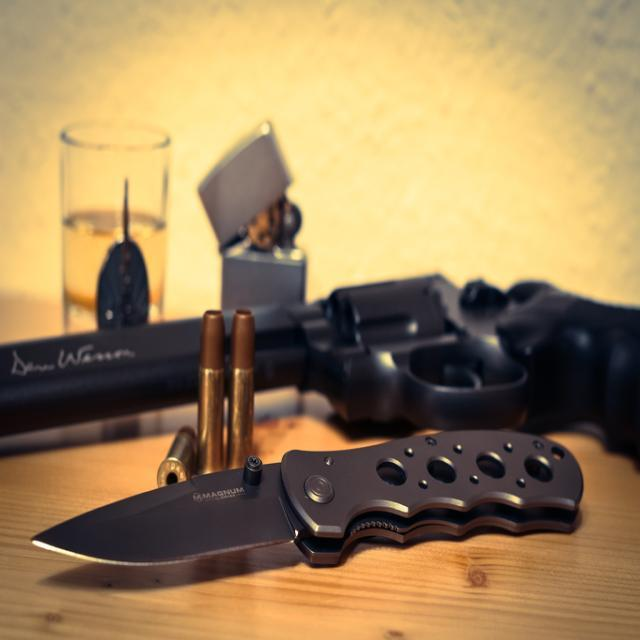Gun: (255, 275, 640, 459), (0, 319, 201, 434)
Knife: (34, 430, 584, 565)
